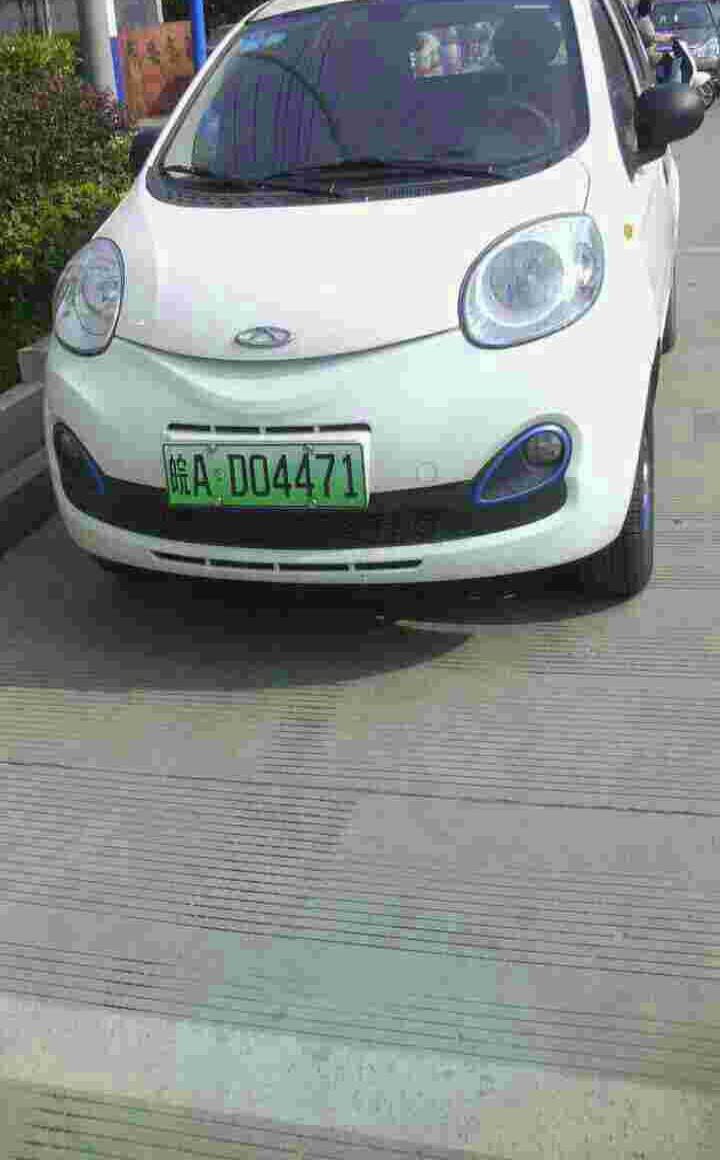car: (149, 436, 380, 507)
